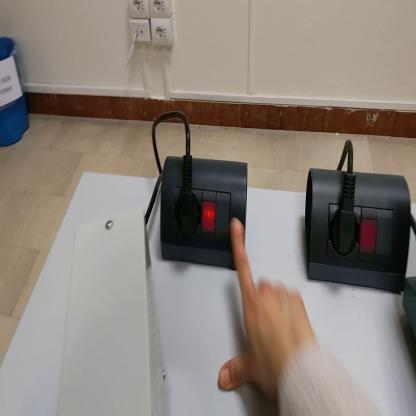hand: (219, 219, 319, 400)
power supply: (57, 219, 170, 416)
socket: (305, 169, 411, 296), (160, 156, 248, 271)
